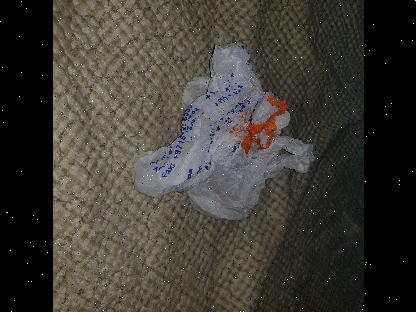Others: (119, 34, 319, 227)
